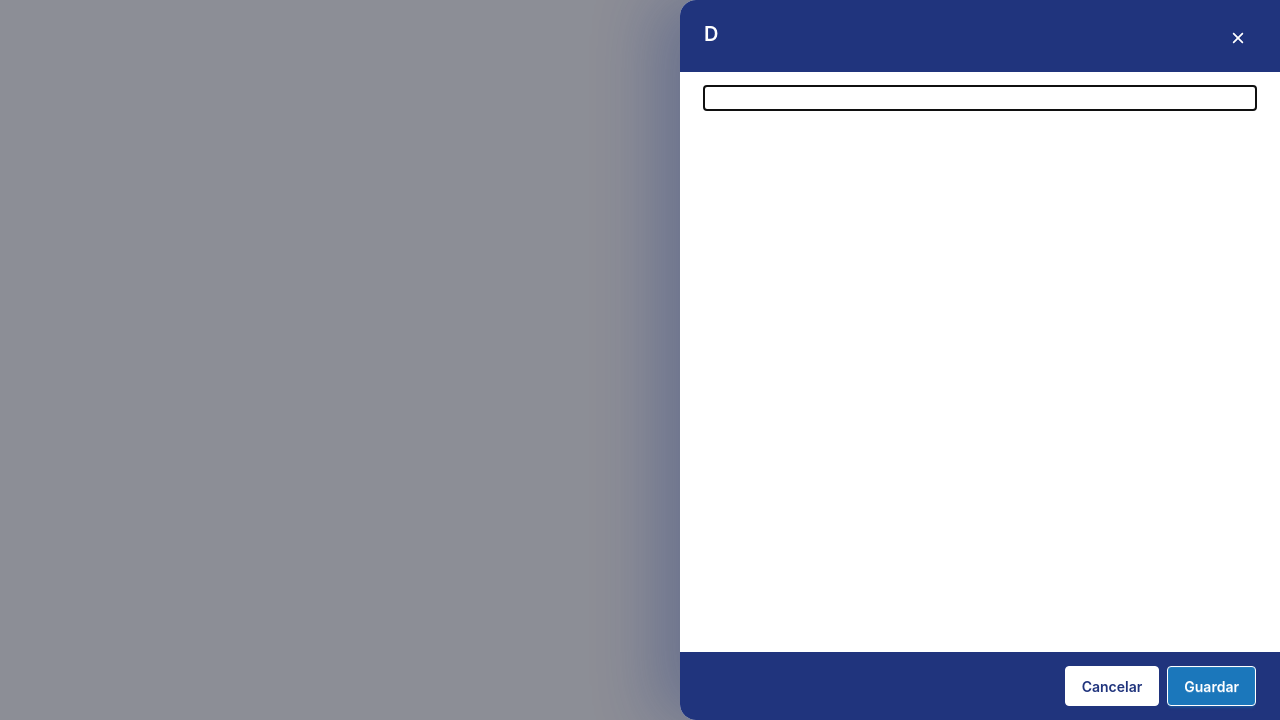
it: DrawerLateral · descarte › con cambios, Escape pregunta; «Seguir editando» se queda
This screenshot has width=1280, height=720.
Press Escape
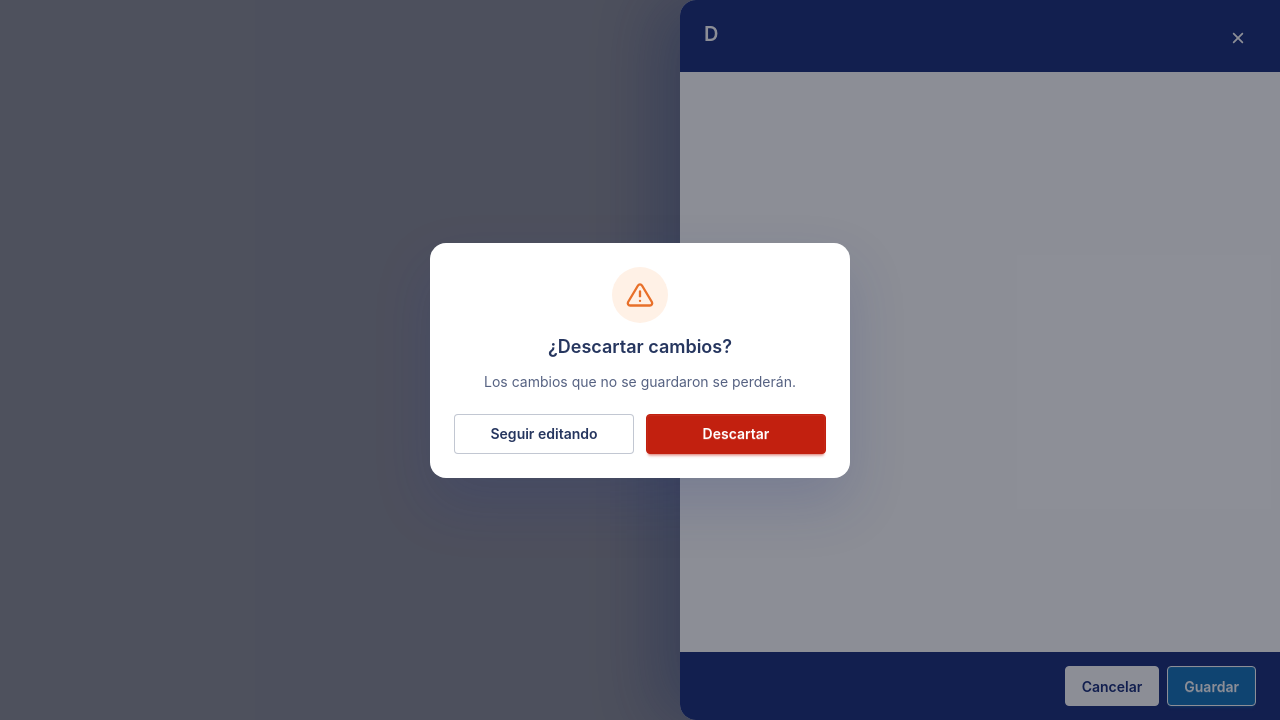
Now the heading "¿Descartar cambios?" is shown, box [548,332,732,360]
Click the button "Seguir editando": (544, 434) [454,414,634,454]
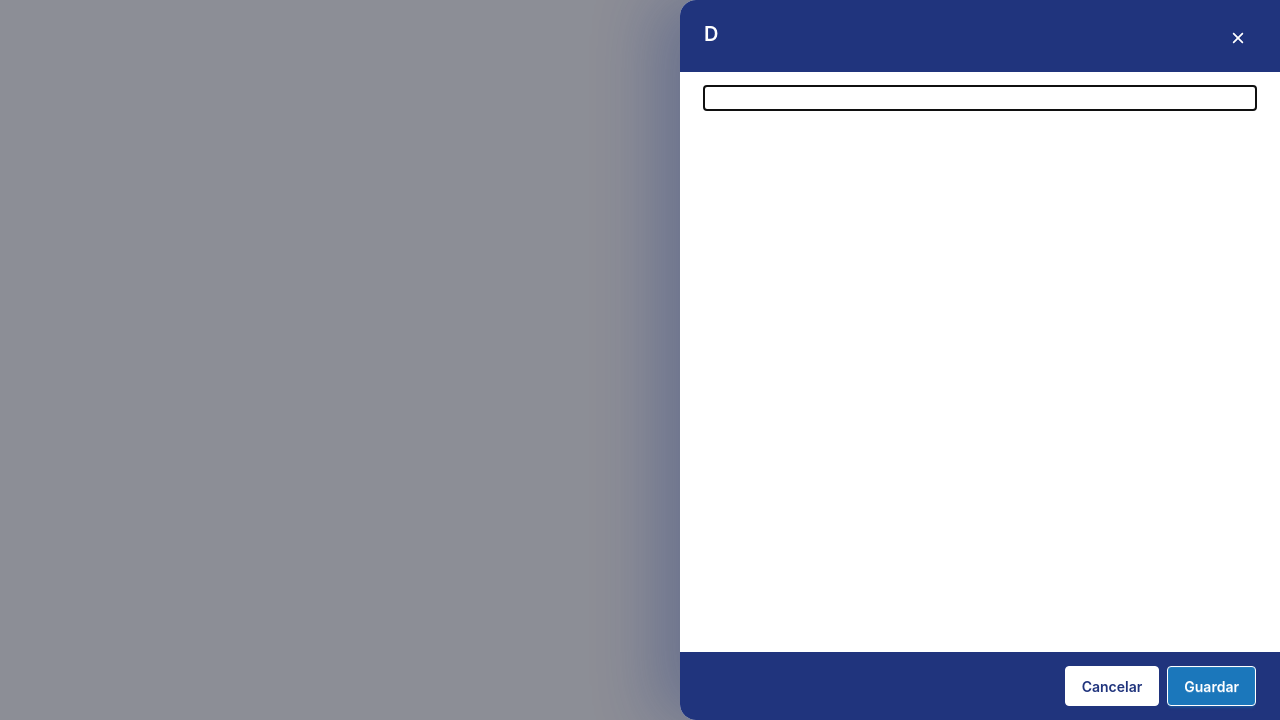
Now the heading "¿Descartar cambios?" is gone
